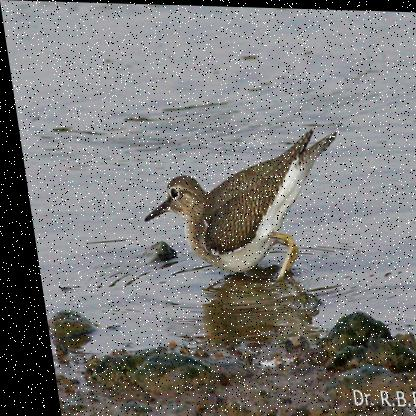Burung: (127, 116, 354, 279)
